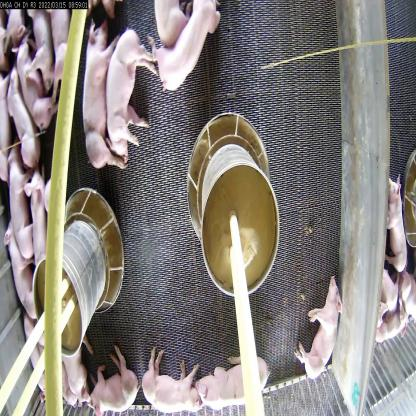Pig: (80, 29, 122, 190), (149, 0, 223, 85), (101, 33, 155, 145), (13, 27, 57, 137), (294, 277, 340, 378), (148, 340, 202, 416), (198, 359, 274, 412), (2, 219, 38, 325), (21, 166, 56, 275), (5, 68, 40, 164), (90, 347, 138, 415), (43, 0, 79, 85)
